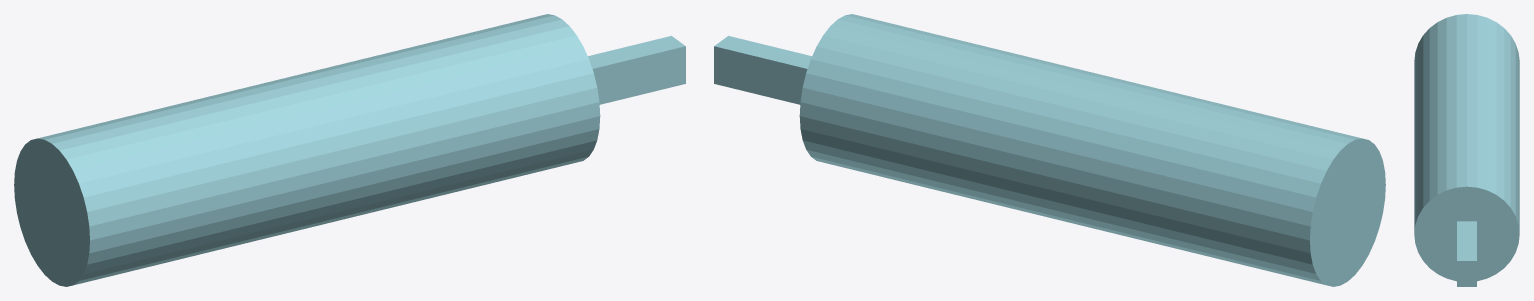
File: cylinder_marker_v4015.obj
3 views of the same model, side by side, from view 1: azimuth 30°, elevation 25°; view 2: azimuth 150°, elevation 25°; view 3: azimuth 270°, elevation 25° (orthographic). The views are drawn at different scales.
Bounding box in the file's own units: 0.1489 × 0.0313 × 0.0313.
1 material, 1 textured.
